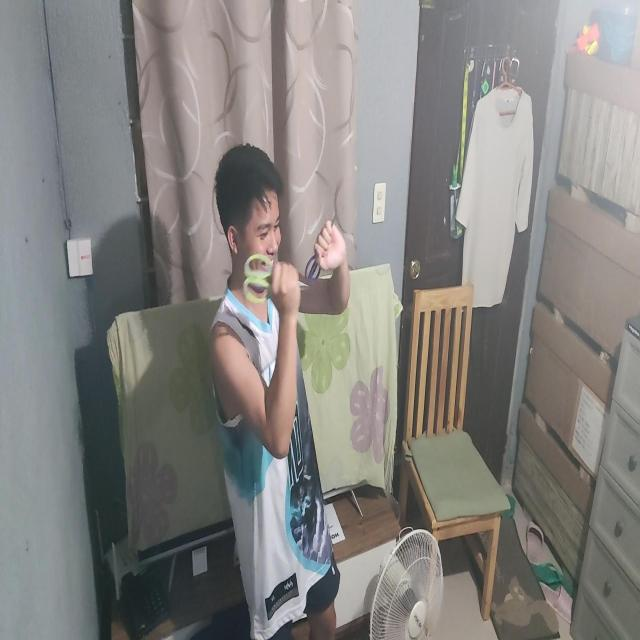scissor: (244, 253, 308, 304), (305, 208, 337, 284)
